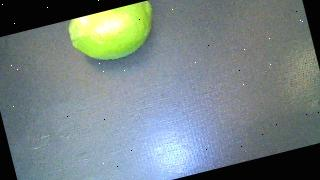EXPORTACION: (66, 0, 161, 68)
